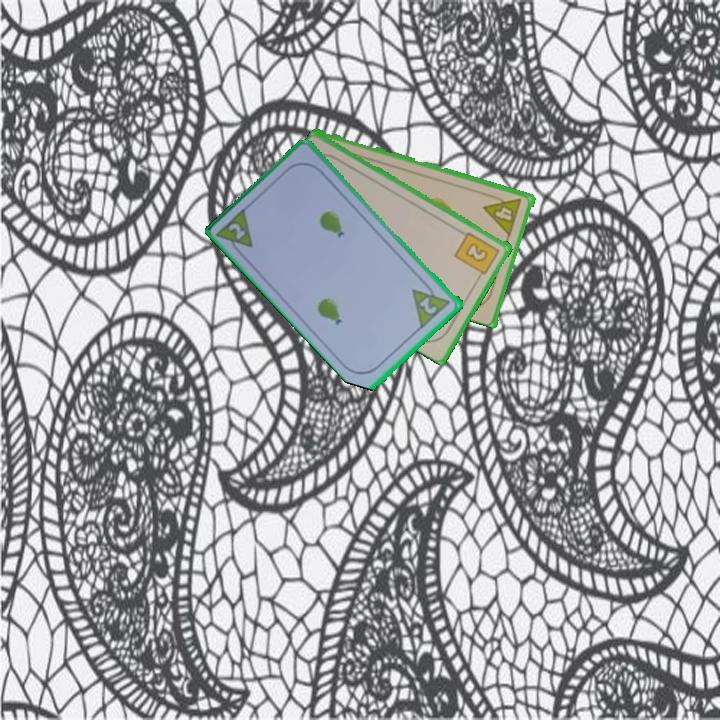2b: (451, 228, 503, 281)
2p: (408, 277, 454, 330), (214, 204, 257, 260)
4p: (481, 190, 525, 238)
